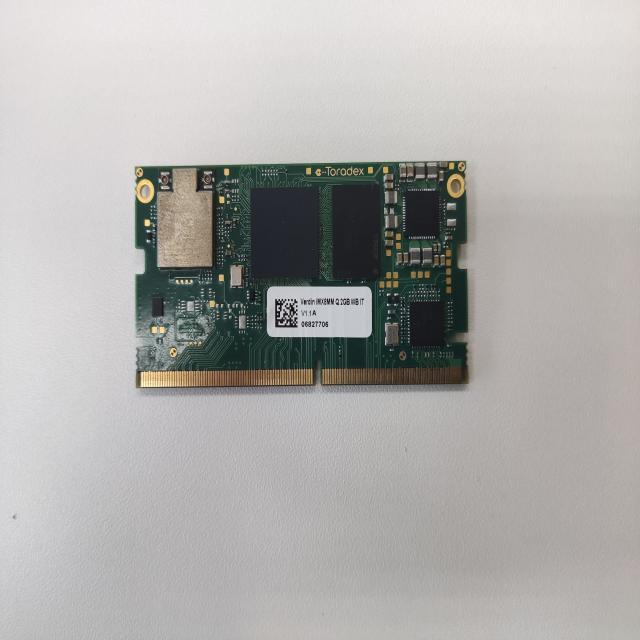som: (127, 157, 484, 400)
